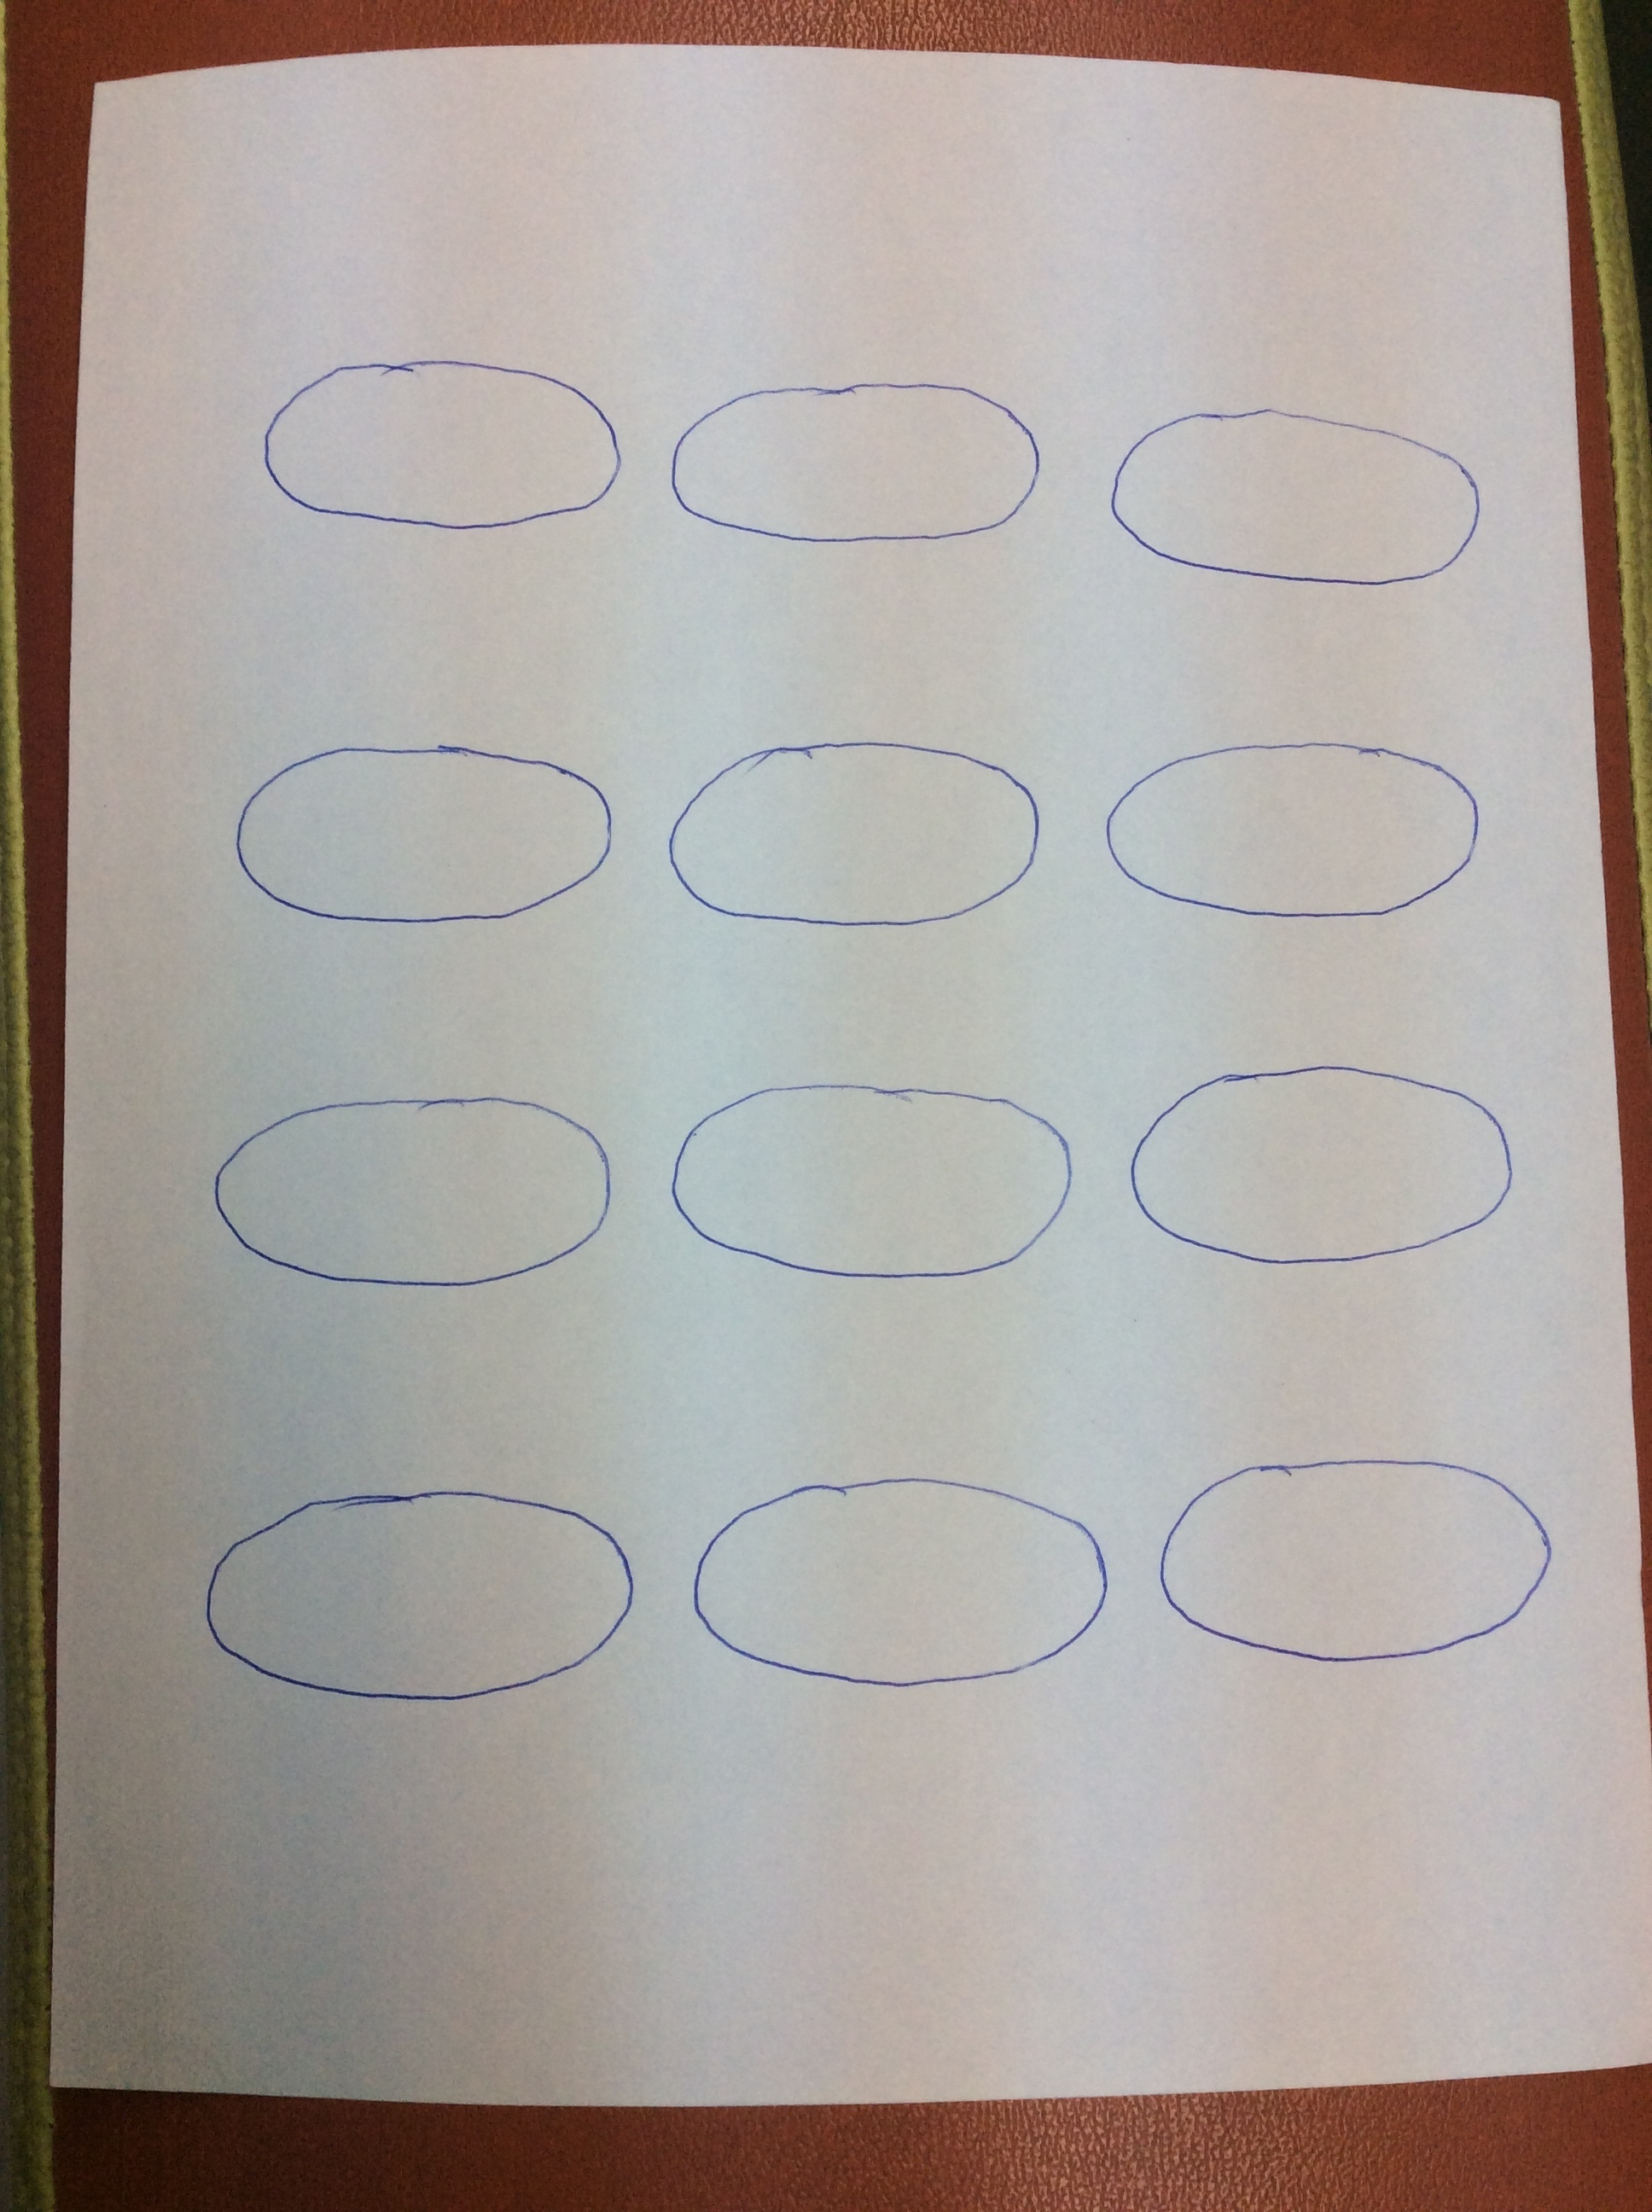start_end: (175, 1461, 644, 1735), (668, 1443, 1118, 1724), (1097, 1031, 1537, 1301), (651, 1048, 1085, 1315), (1145, 1433, 1579, 1690), (189, 1065, 630, 1312), (654, 703, 1053, 956), (1086, 375, 1503, 614), (1086, 710, 1491, 949), (651, 352, 1053, 586), (213, 720, 623, 939), (245, 338, 623, 571)
